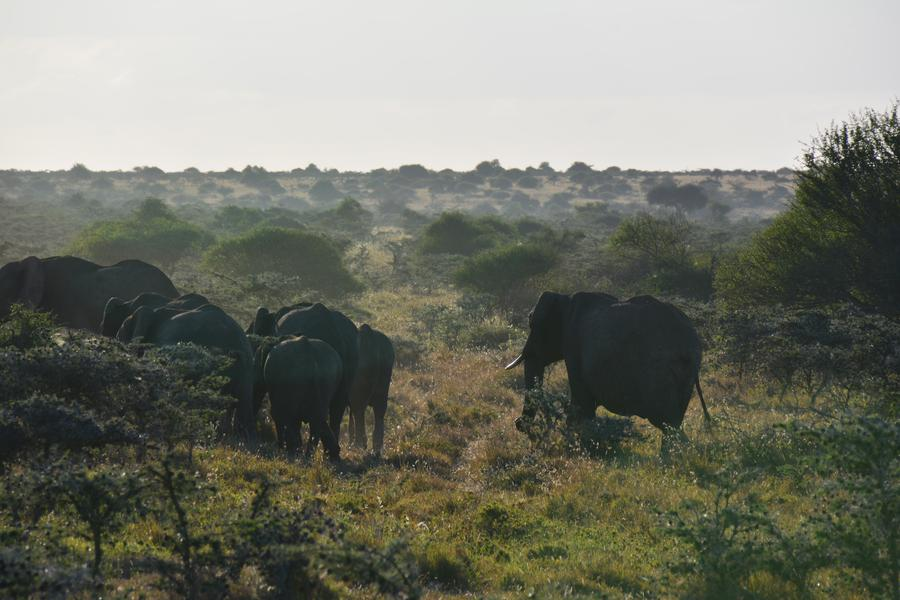elephant: (522, 291, 687, 436), (261, 331, 345, 453)
